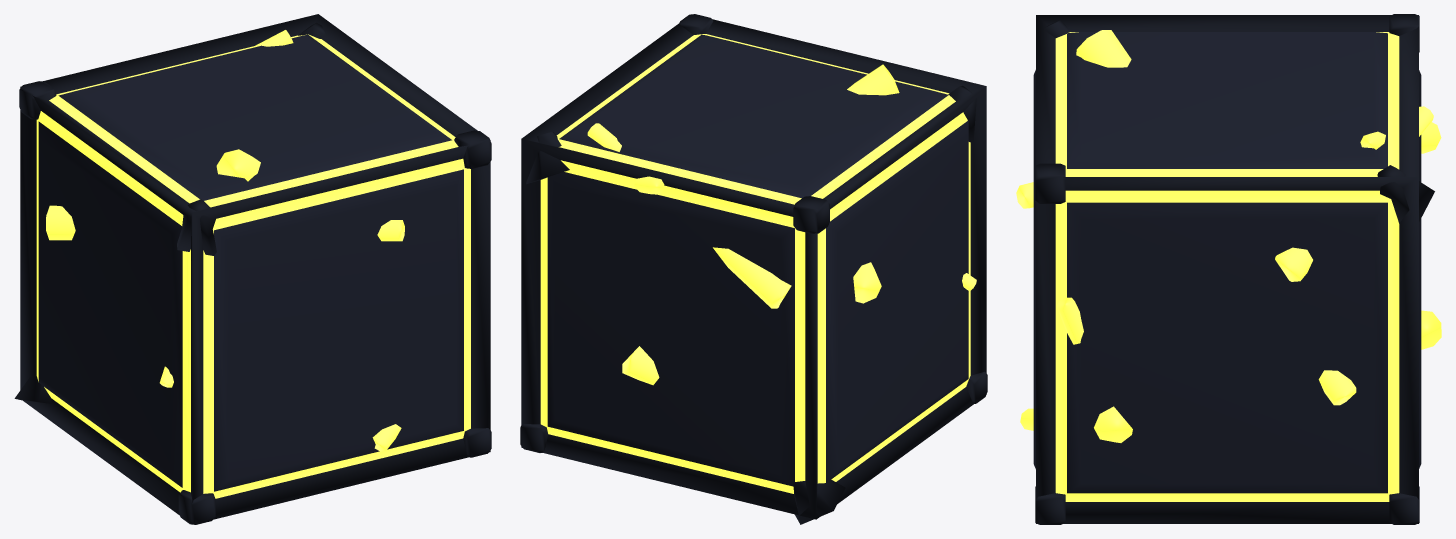
The model's file is escudo_bloque_agrietado.glb.
The picture shows the model from 3 angles, left to right: view 1: azimuth 30°, elevation 25°; view 2: azimuth 150°, elevation 25°; view 3: azimuth 270°, elevation 25°; orthographic projection. The views are drawn at different scales.
Visible parts, largest first — view 1: escudo_bloque_agrietado; view 2: escudo_bloque_agrietado; view 3: escudo_bloque_agrietado.
Boxes of the visible parts, x1,y1,x2,y2 form: escudo_bloque_agrietado: (14,14,491,524); escudo_bloque_agrietado: (520,14,987,524); escudo_bloque_agrietado: (1016,14,1441,524).
Size of the model in its own units: 0.54 by 0.5382 by 0.5334.
